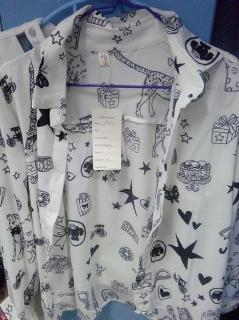long sleeve outwear: (0, 5, 239, 319)
